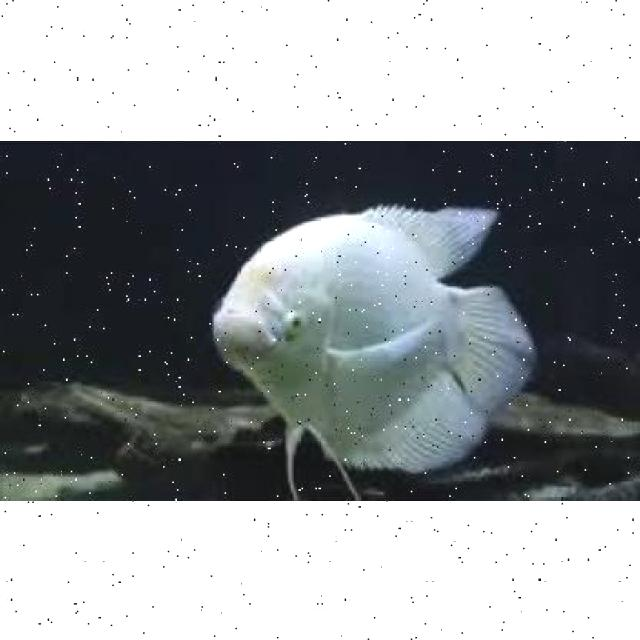gurame: (204, 205, 534, 472)
